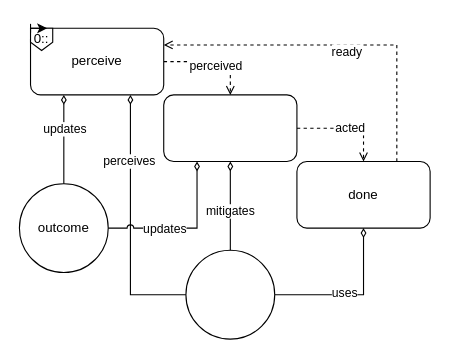
The diagram is 450 pixels wide and 359 high, and some of its shapes have lost their labels. Each missing label, with the box of its shape:
act: (163, 94, 297, 162)
hazard: (185, 249, 275, 339)
